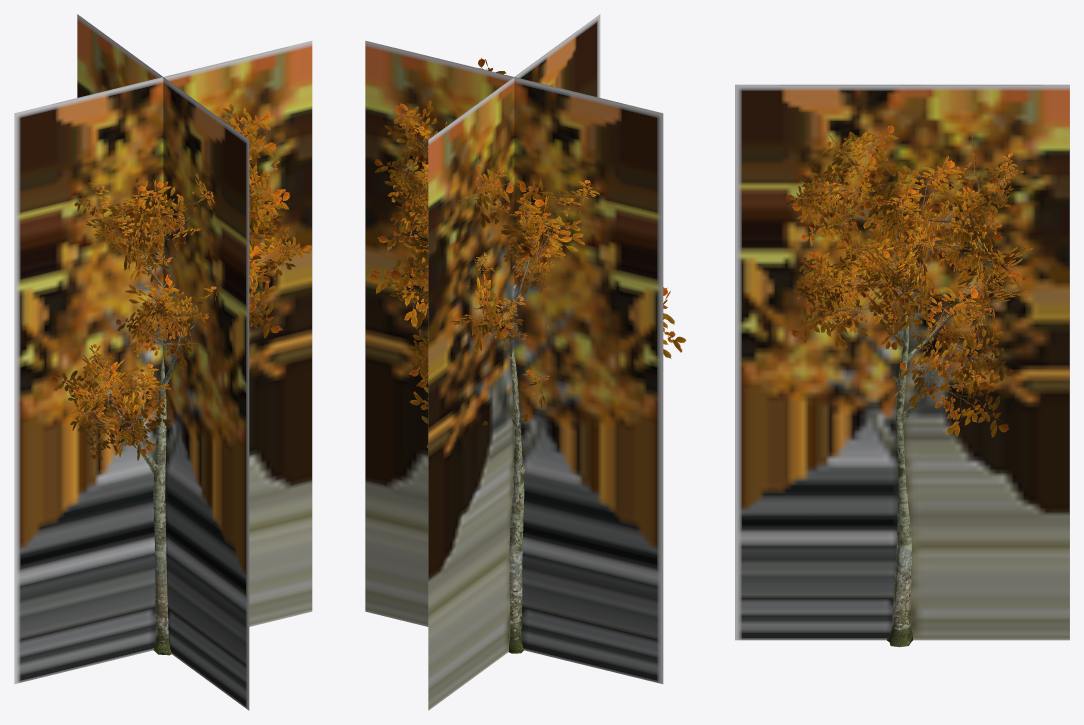
The model's file is Tree-Beech1B-mobile.fbx.
3 views of the same model, side by side, from view 1: azimuth 30°, elevation 25°; view 2: azimuth 150°, elevation 25°; view 3: azimuth 270°, elevation 25° (orthographic). The views are drawn at different scales.
Visible parts, largest first — view 1: Billboard-BeechB, Tree-Beech1B-mobile_LOD0; view 2: Billboard-BeechB, Tree-Beech1B-mobile_LOD0; view 3: Billboard-BeechB, Tree-Beech1B-mobile_LOD0.
Part boxes in pixels (left/top/right/bottom): Billboard-BeechB: left=14, top=14, right=312, bottom=710; Tree-Beech1B-mobile_LOD0: left=50, top=103, right=311, bottom=655; Billboard-BeechB: left=365, top=14, right=663, bottom=710; Tree-Beech1B-mobile_LOD0: left=368, top=57, right=686, bottom=653; Billboard-BeechB: left=735, top=84, right=1069, bottom=640; Tree-Beech1B-mobile_LOD0: left=785, top=125, right=1032, bottom=647.
Size of what is drawn, in the model's own units: 1253 by 2294 by 1253.
